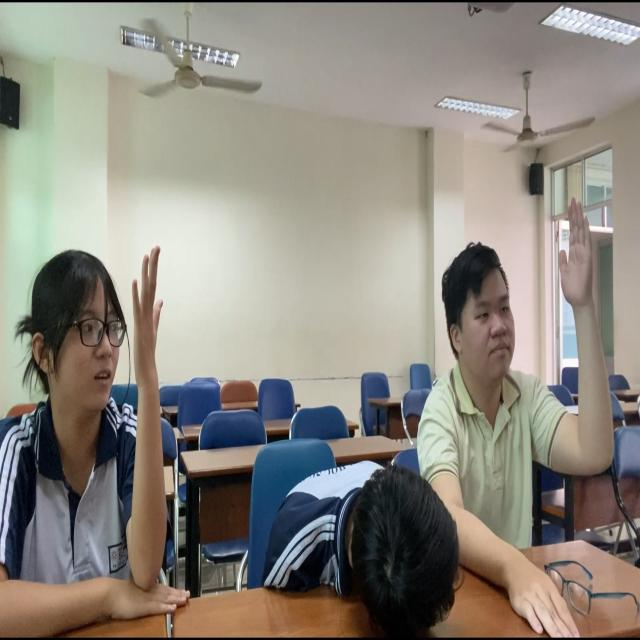raise_hand: (418, 203, 629, 572), (1, 239, 196, 631)
sleep: (245, 448, 462, 640)
